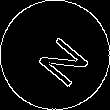N_NW: (23, 24, 87, 86)
